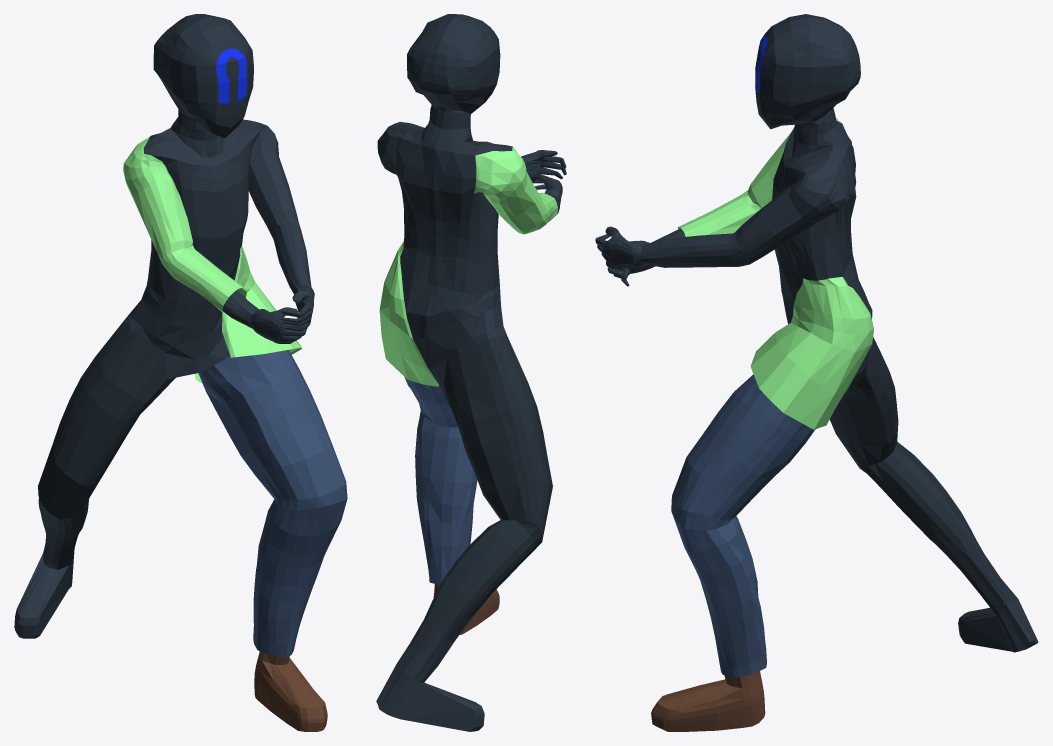
Rendered from Mar_WB_000005.obj.
3 views of the same model, side by side, from view 1: azimuth 30°, elevation 25°; view 2: azimuth 150°, elevation 25°; view 3: azimuth 270°, elevation 25° (orthographic). The views are drawn at different scales.
Parts seen in each view (by area): view 1: Cube.000_Cube.001; view 2: Cube.000_Cube.001; view 3: Cube.000_Cube.001.
Part boxes in pixels (x1,y1,x2,y2): Cube.000_Cube.001: (14,14,347,731); Cube.000_Cube.001: (376,14,566,731); Cube.000_Cube.001: (595,14,1038,731).
Size of the model in its own units: 1.22 by 3.66 by 2.14.
